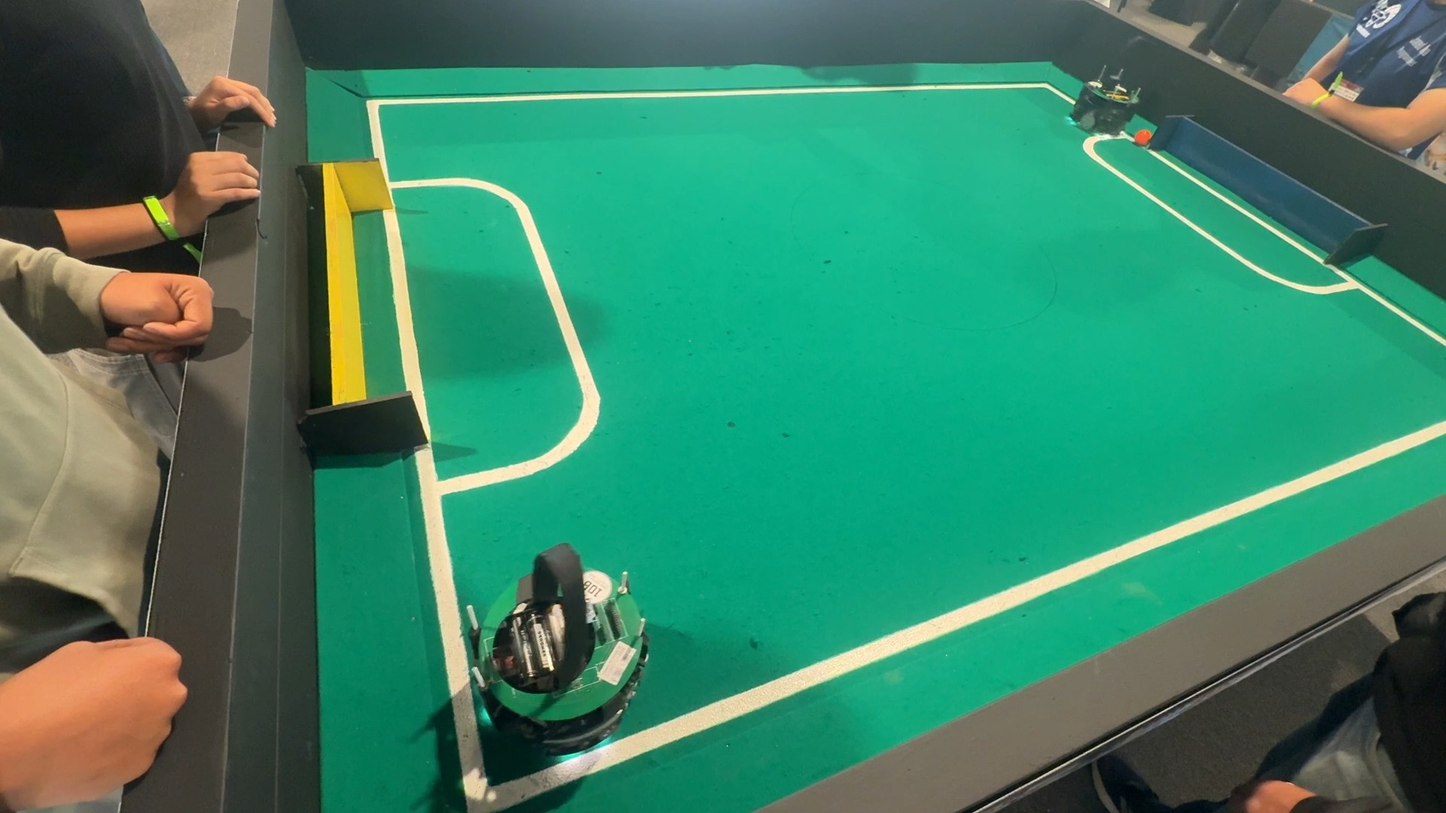Robot: (442, 517, 669, 797), (1074, 37, 1140, 135)
pelota: (1132, 124, 1154, 150)
